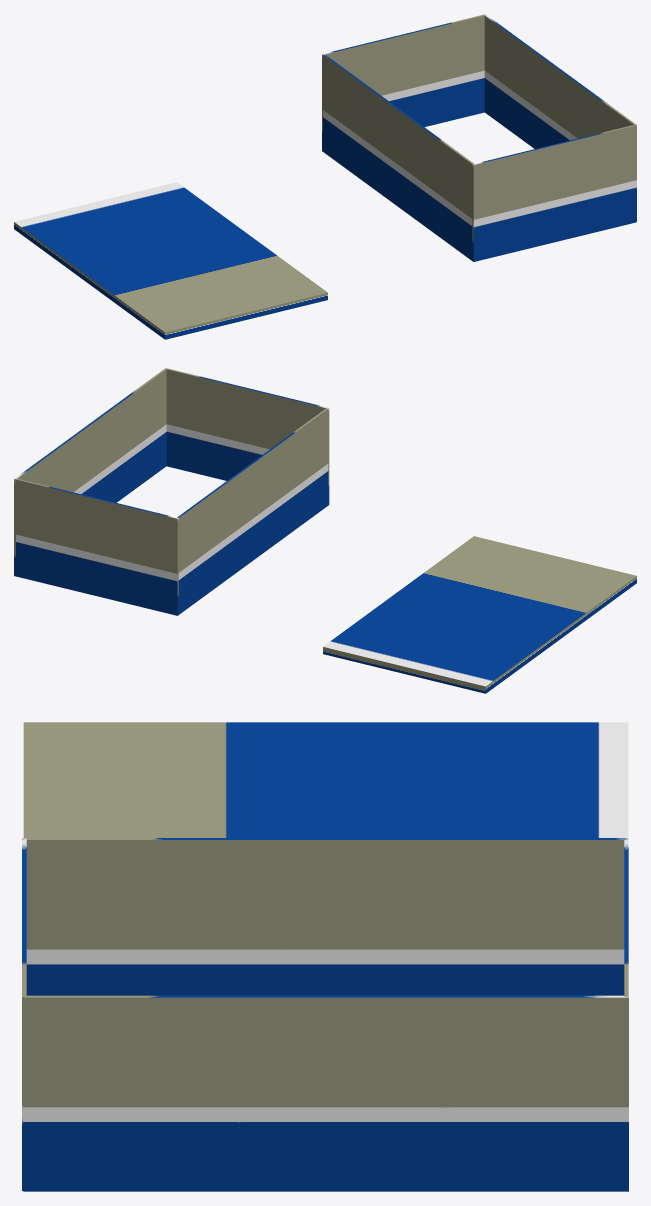
File: TESTETS.fbx
The picture shows the model from 3 angles, top to bottom: view 1: azimuth 30°, elevation 25°; view 2: azimuth 150°, elevation 25°; view 3: azimuth 270°, elevation 25°; orthographic projection. The views are drawn at different scales.
Visible parts, largest first — view 1: pCube7; view 2: pCube7; view 3: pCube7.
Part boxes in pixels (x1,y1,x2,y2): pCube7: (14, 14, 636, 339); pCube7: (14, 368, 636, 693); pCube7: (22, 722, 628, 1191).
Size of the model in its own units: 213 by 43.14 by 119.
Materials: 1 (1 with a texture image).
